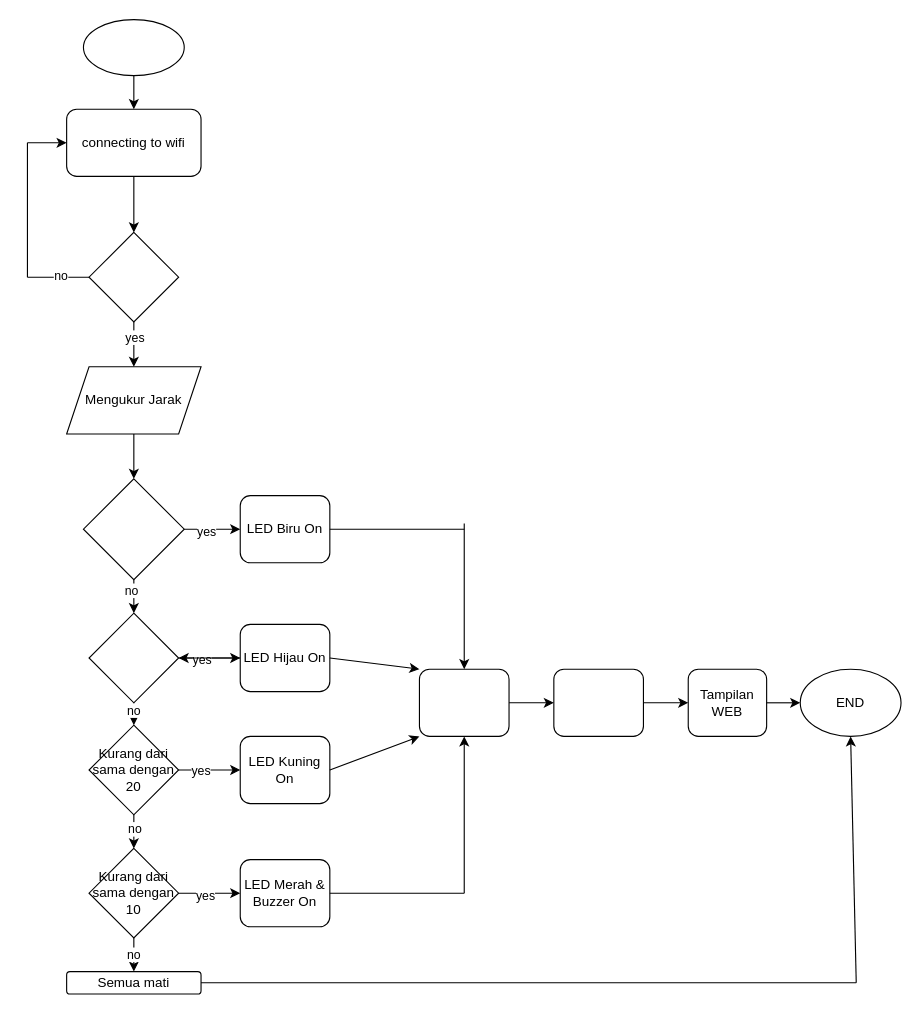
This 921x1014 diagram has some shape labels left out. The shapes that lost their labels are listed below. From the top down, each one's centre as x and y in pixels, then its label:
At [133,47]: "Start".
At [133,276]: "connected?".
At [133,529]: "Kurang dari sama dengan 40".
At [133,657]: "Kurang dari sama dengan 30".
At [463,702]: "Mengirim Data".
At [598,702]: "Menyimpan Data di Localhost".
